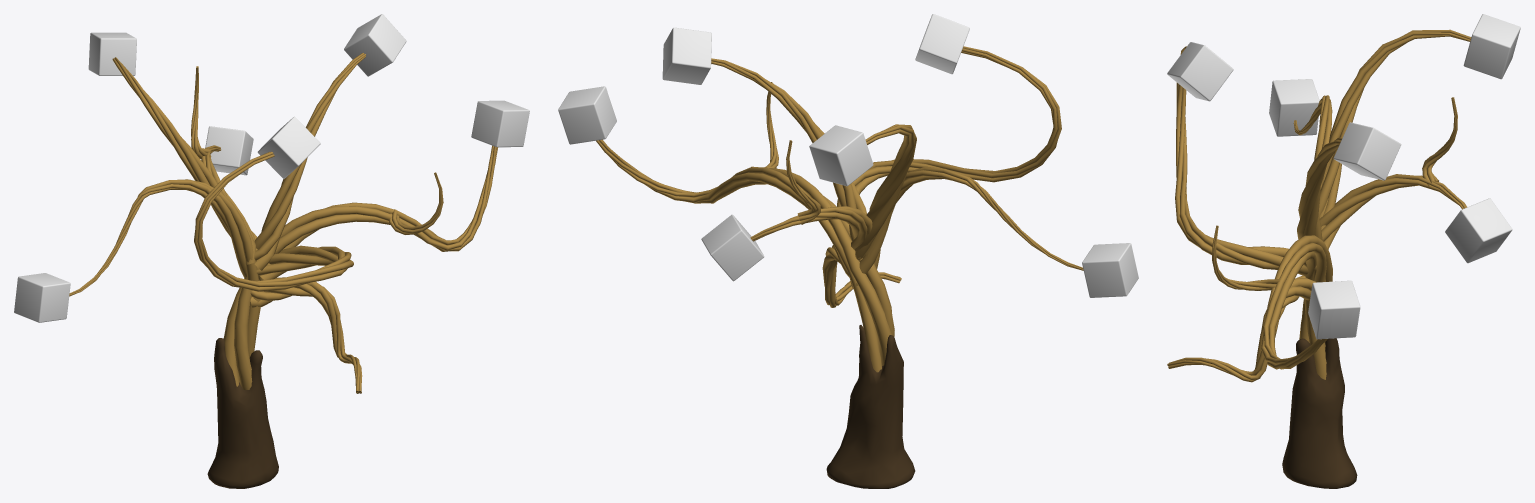
The model's file is slodkie drzewko001.fbx.
3 views of the same model, side by side, from view 1: azimuth 30°, elevation 25°; view 2: azimuth 150°, elevation 25°; view 3: azimuth 270°, elevation 25° (orthographic). The views are drawn at different scales.
Parts seen in each view (by area): view 1: Cylinder.002; view 2: Cylinder.002; view 3: Cylinder.002.
Boxes of the visible parts, box(x1,y1,x2,y2) form: Cylinder.002: box(14, 14, 529, 488); Cylinder.002: box(558, 14, 1138, 488); Cylinder.002: box(1167, 14, 1520, 488).
Bounding box in the file's own units: 862 × 635 × 471.
